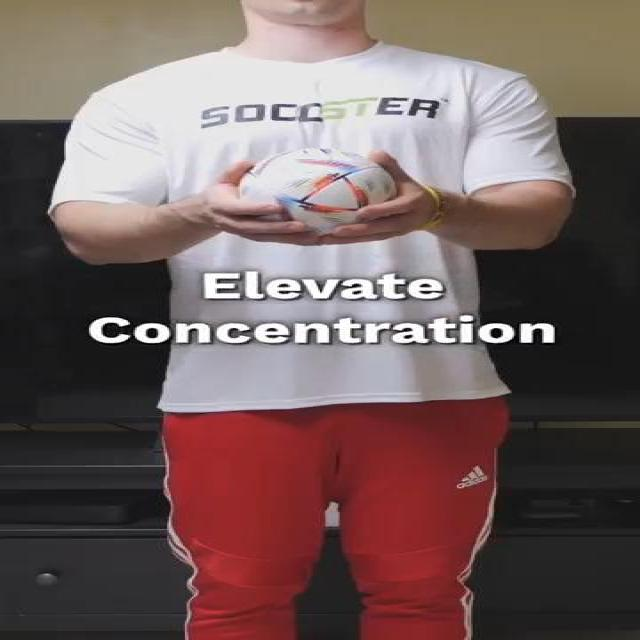Soccer Ball: (236, 144, 409, 234)
